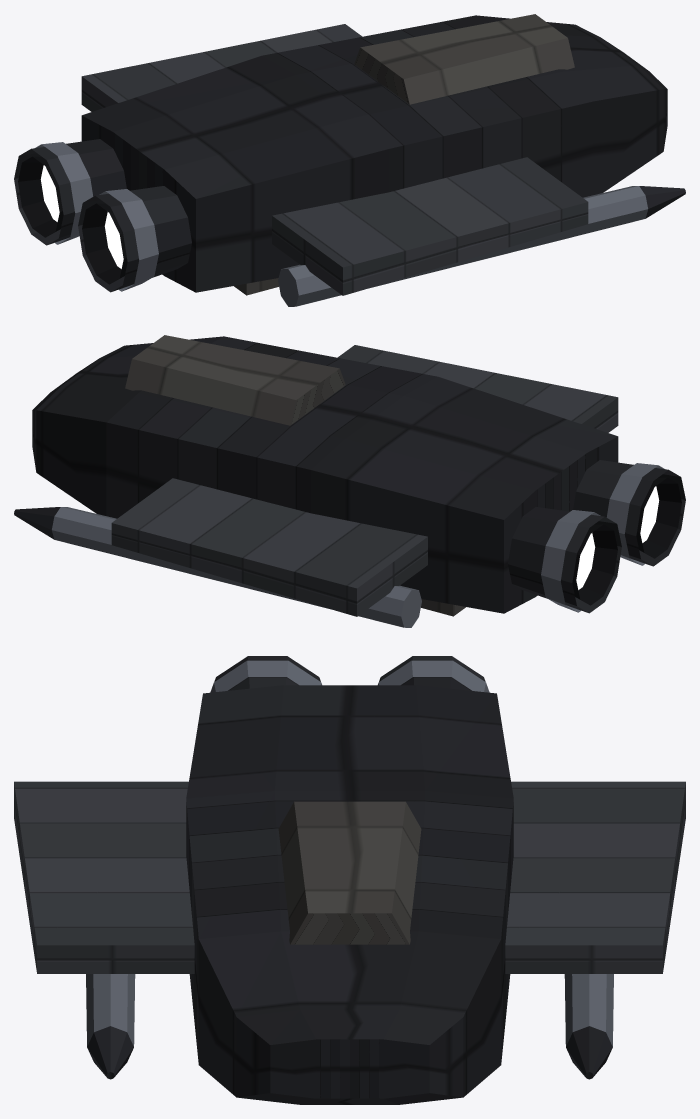
The model's file is bomber.glb.
3 views of the same model, one above another, from view 1: azimuth 30°, elevation 25°; view 2: azimuth 150°, elevation 25°; view 3: azimuth 270°, elevation 25° (orthographic). The views are drawn at different scales.
Visible parts, largest first — view 1: bomber; view 2: bomber; view 3: bomber.
Part boxes in pixels (x1,y1,x2,y2): bomber: (14,14,685,306); bomber: (14,335,685,627); bomber: (14,656,685,1104).
Bounding box in the file's own units: 4 × 1.12 × 3.2.
Materials: 1 (1 with a texture image).
